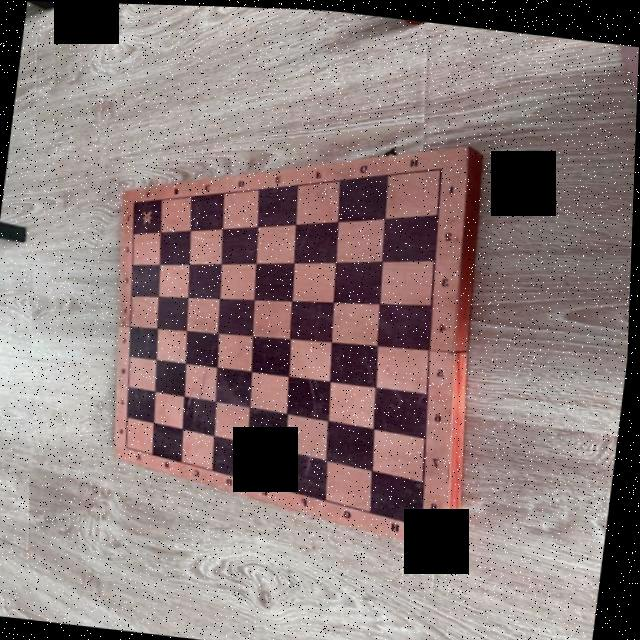chess-table-corners: (431, 159, 451, 173), (417, 514, 432, 528), (122, 441, 136, 452), (130, 198, 138, 205)
